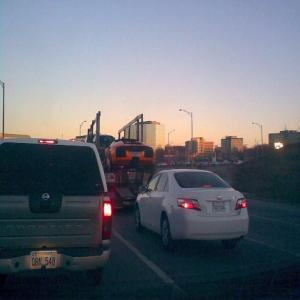Vehicle-registration-plate: (25, 253, 59, 278), (214, 203, 227, 215)
